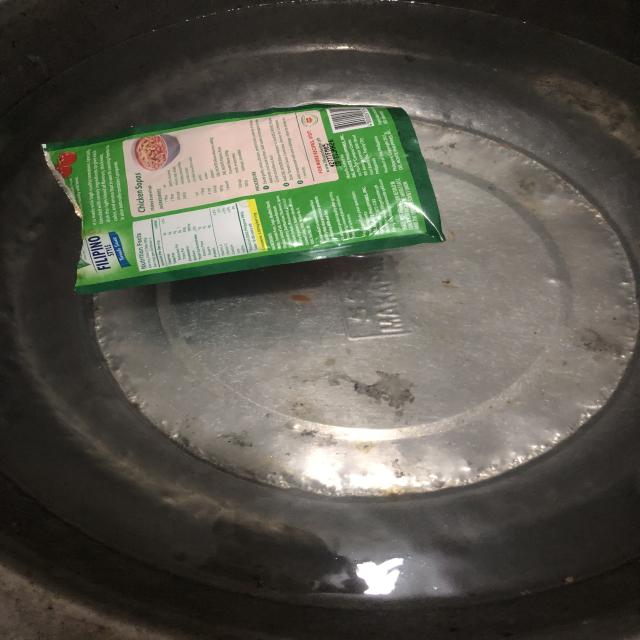Plastic Pouch: (41, 103, 445, 292)
